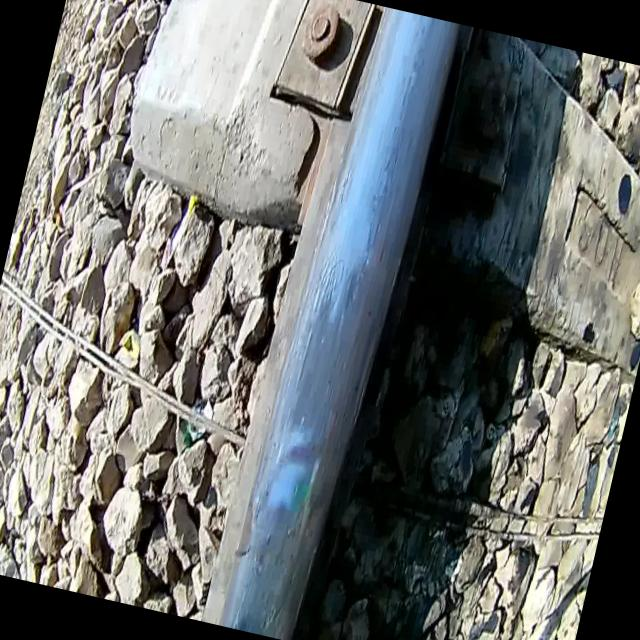Squats: (190, 583, 312, 640)
